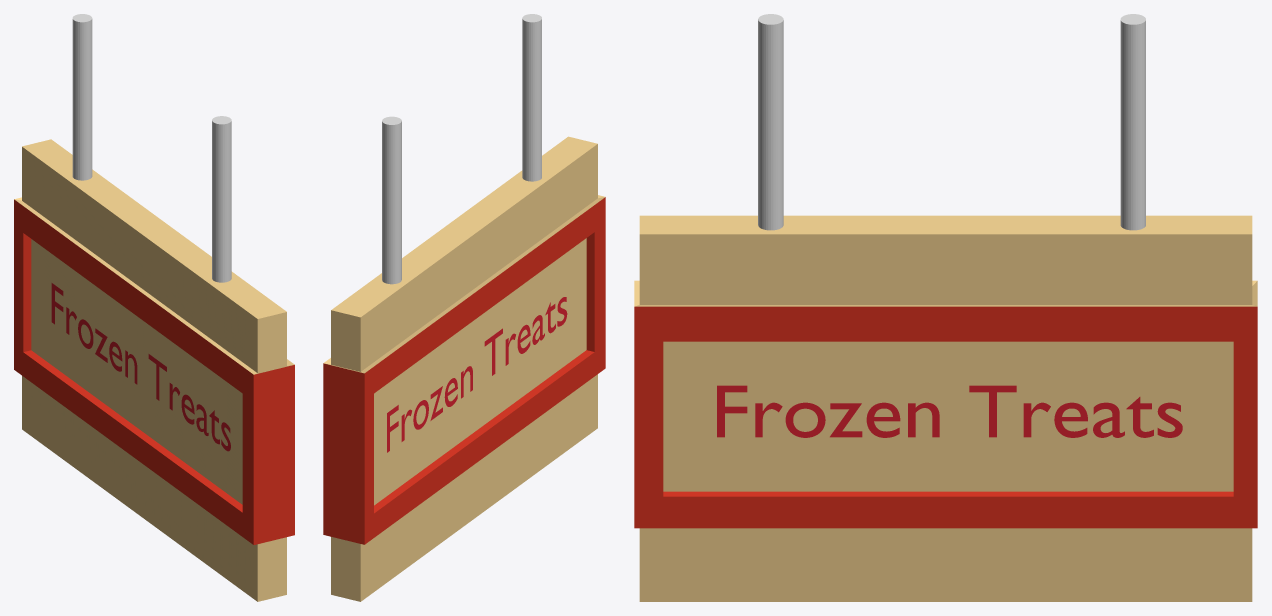
File: frozenTreatsSign.fbx
3 renders of one model, left to right at view 1: azimuth 30°, elevation 25°; view 2: azimuth 150°, elevation 25°; view 3: azimuth 270°, elevation 25°, orthographic. The views are drawn at different scales.
Visible parts, largest first — view 1: baseSign, Cylinder.001, Cylinder.000, BaseText.001; view 2: baseSign, Cylinder.001, Cylinder.000, BaseText.001; view 3: baseSign, BaseText.000, Cylinder.001, Cylinder.000.
Boxes of the visible parts, box(x1,y1,x2,y2) form: baseSign: box(14, 139, 294, 601); Cylinder.001: box(72, 14, 92, 180); Cylinder.000: box(212, 116, 231, 282); BaseText.001: box(51, 283, 230, 451); baseSign: box(323, 136, 605, 601); Cylinder.001: box(382, 116, 401, 284); Cylinder.000: box(522, 14, 541, 181); BaseText.001: box(387, 297, 567, 452); baseSign: box(634, 215, 1257, 601); BaseText.000: box(717, 385, 1182, 437); Cylinder.001: box(1120, 14, 1145, 230); Cylinder.000: box(758, 14, 783, 230).
Size of the model in its own units: 42.35 by 434 by 427.
